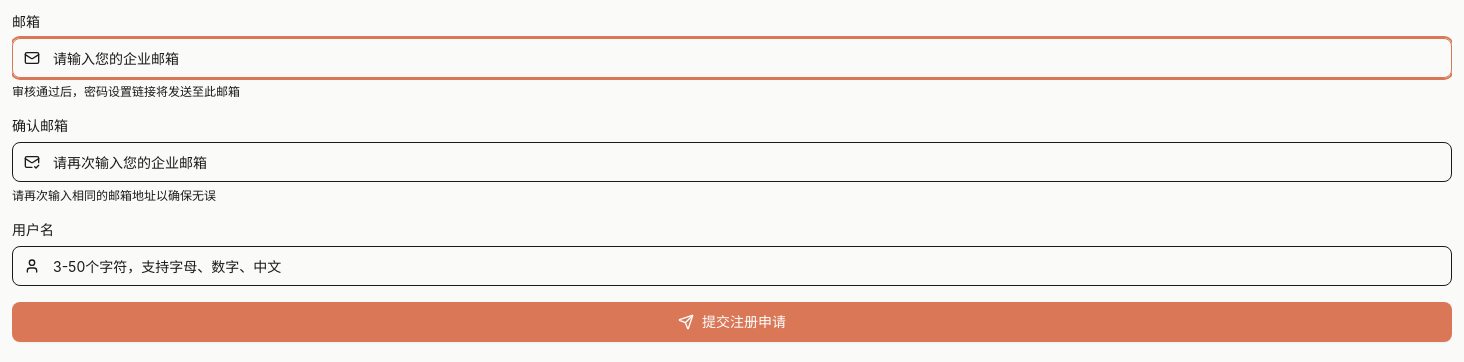
it: RegisterApplyForm 组件 › 空邮箱提交 - 显示错误
The image size is (1464, 362).
// 仅填写用户名和确认邮箱
In the field with placeholder "3-50个字符，支持字母、数字、中文": (732, 266) [12,246,1452,286], type "testuser"
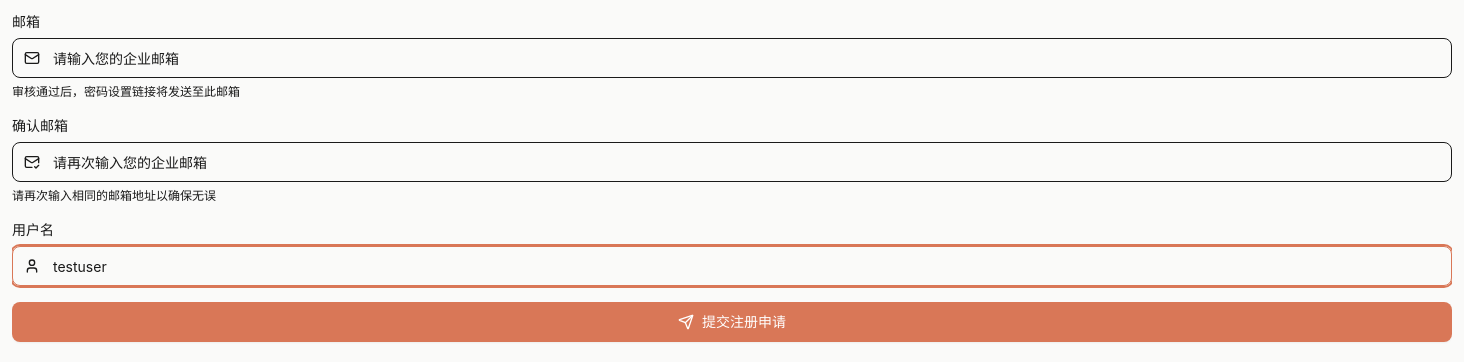
In the field with placeholder "请再次输入您的企业邮箱": (732, 162) [12,142,1452,182], type "test@example.com"
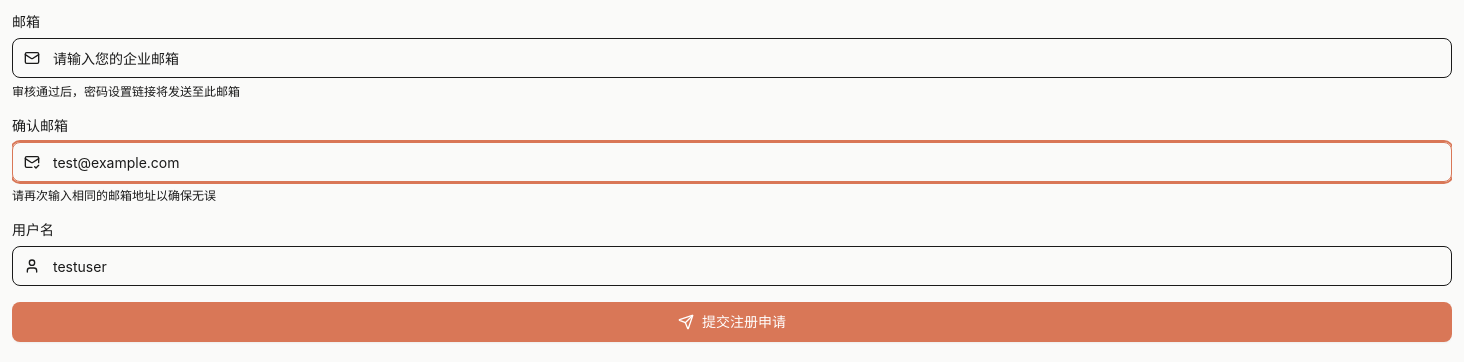
Click the button "提交注册申请": (732, 322) [12,302,1452,342]
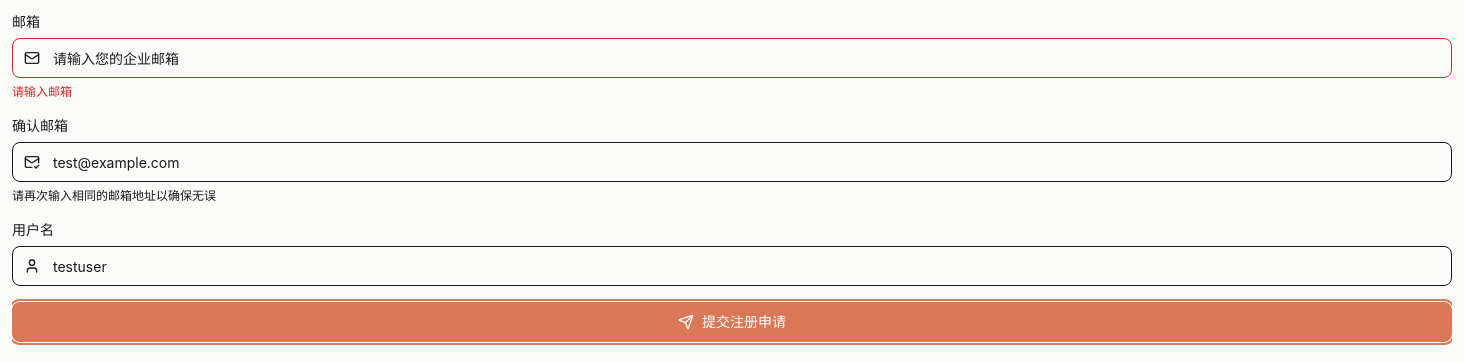
Result: the text "请输入邮箱" is shown at [12,84,72,99]
